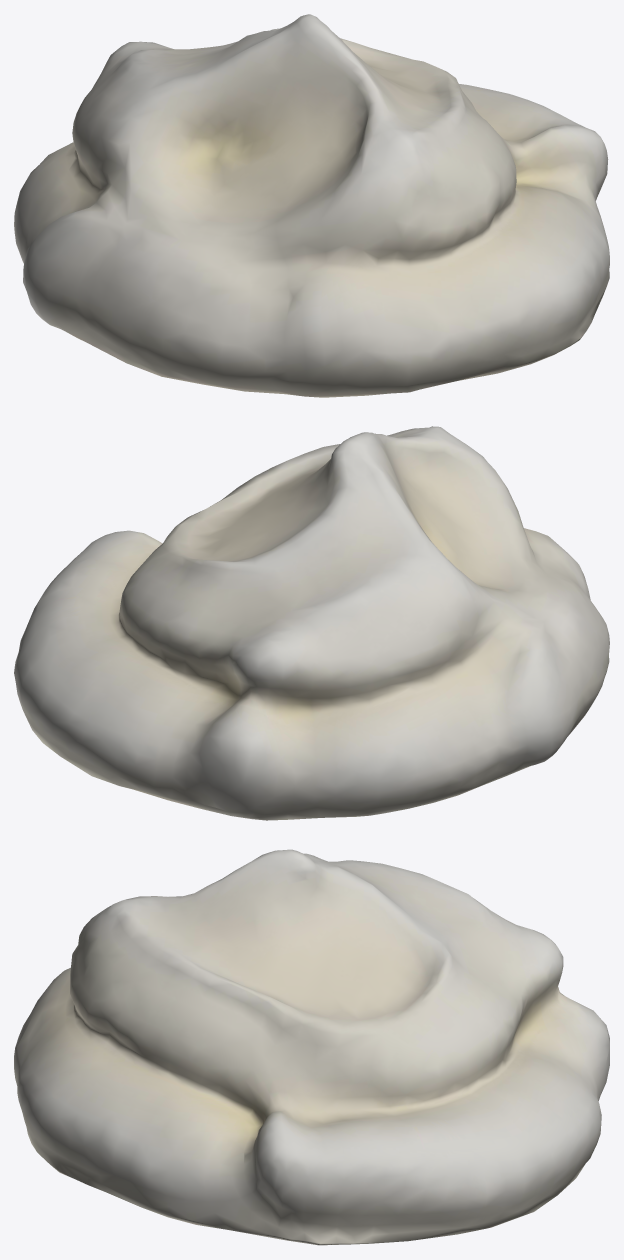
File: 019ef41f-02c4-765b-9428-aebd9b14ff00.glb
3 views of the same model, one above another, from view 1: azimuth 30°, elevation 25°; view 2: azimuth 150°, elevation 25°; view 3: azimuth 270°, elevation 25° (orthographic). The views are drawn at different scales.
Visible parts, largest first — view 1: tripo_node_26c2eb61-2860-4f44-a6aa-6af7fdeb2f70; view 2: tripo_node_26c2eb61-2860-4f44-a6aa-6af7fdeb2f70; view 3: tripo_node_26c2eb61-2860-4f44-a6aa-6af7fdeb2f70.
Part boxes in pixels (left/top/right/bottom): tripo_node_26c2eb61-2860-4f44-a6aa-6af7fdeb2f70: left=14, top=14, right=609, bottom=397; tripo_node_26c2eb61-2860-4f44-a6aa-6af7fdeb2f70: left=14, top=426, right=609, bottom=820; tripo_node_26c2eb61-2860-4f44-a6aa-6af7fdeb2f70: left=14, top=849, right=609, bottom=1245.
Size of the model in its own units: 0.998 by 0.5176 by 0.998.
Materials: 1 (1 with a texture image).
